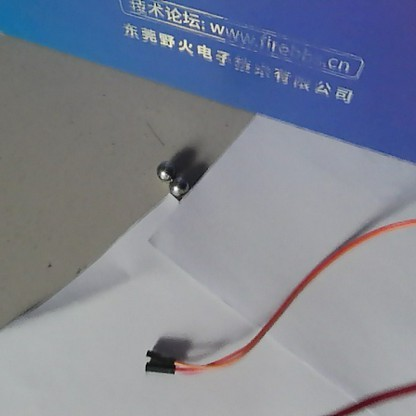ironball: (154, 158, 179, 180), (169, 175, 192, 198)
